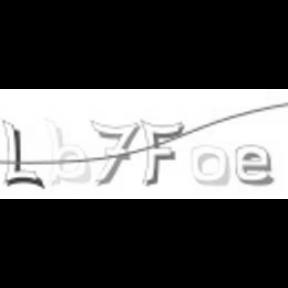7: (88, 116, 140, 186)
F: (136, 117, 184, 187)
L: (0, 118, 46, 192)
b: (47, 114, 93, 192)
e: (233, 144, 275, 188)
o: (188, 143, 232, 187)
